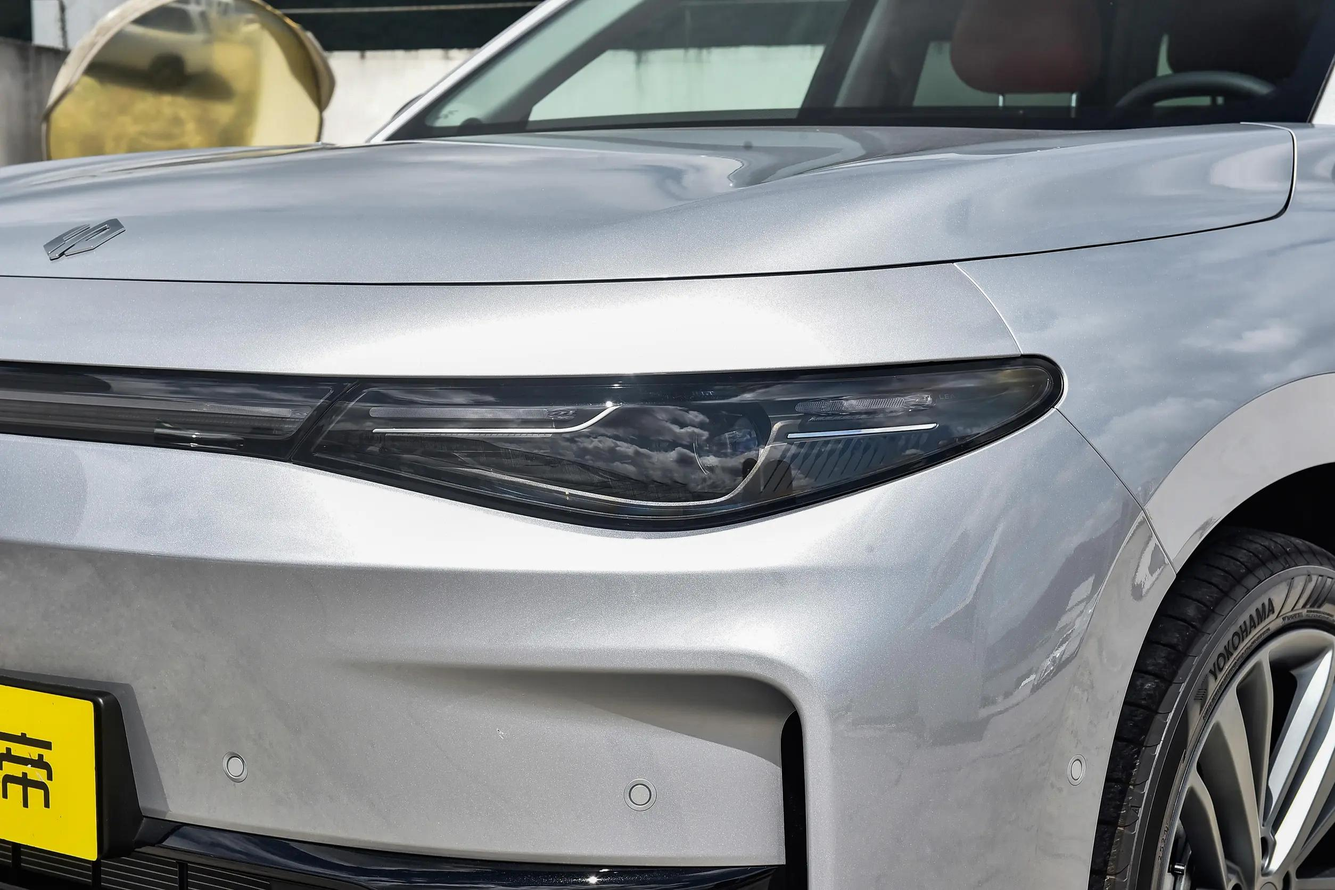LEAPMOTOR: (40, 218, 127, 260)
